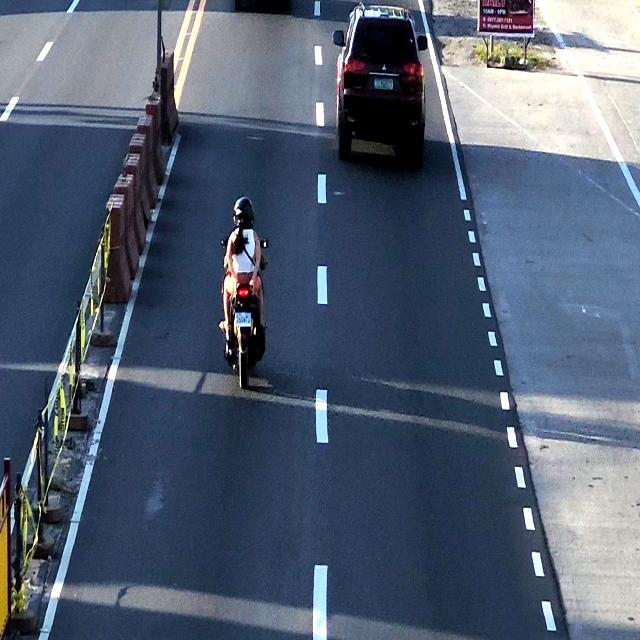Car: (333, 0, 426, 158)
License-Plate: (233, 310, 254, 331), (374, 78, 398, 93)
Motorcycle: (223, 179, 266, 392)
